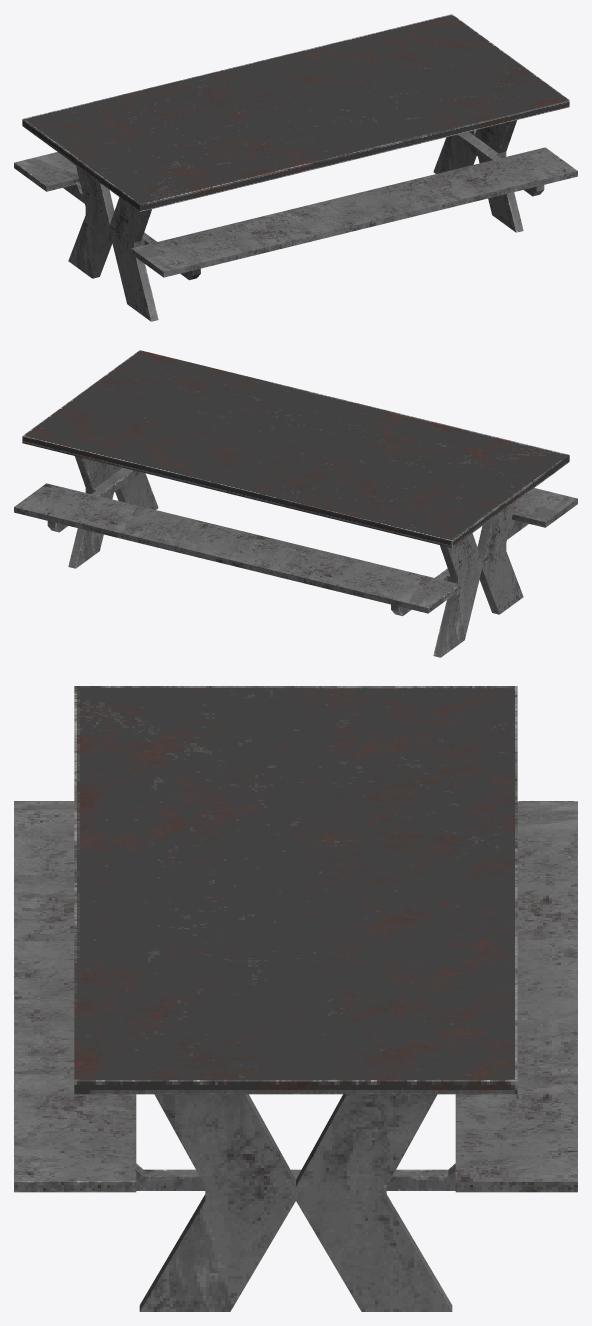
The model's file is bench.glb.
The picture shows the model from 3 angles, top to bottom: view 1: azimuth 30°, elevation 25°; view 2: azimuth 150°, elevation 25°; view 3: azimuth 270°, elevation 25°; orthographic projection. The views are drawn at different scales.
Visible parts, largest first — view 1: bench-col; view 2: bench-col; view 3: bench-col.
Part boxes in pixels (x1,y1,x2,y2): bench-col: [14, 14, 577, 321]; bench-col: [14, 350, 577, 657]; bench-col: [14, 686, 577, 1311].
Size of the model in its own units: 6.33 by 1.92 by 3.82.
Materials: 1 (1 with a texture image).
